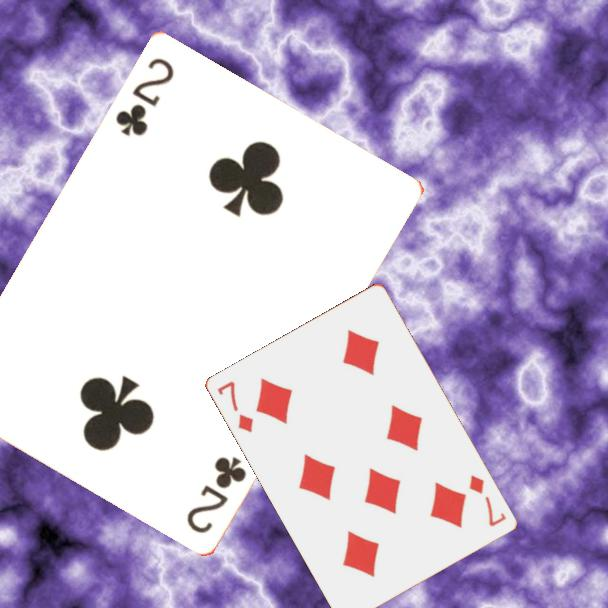c02: (183, 453, 250, 537), (112, 54, 177, 140)
d07: (466, 472, 509, 530), (214, 377, 257, 435)
